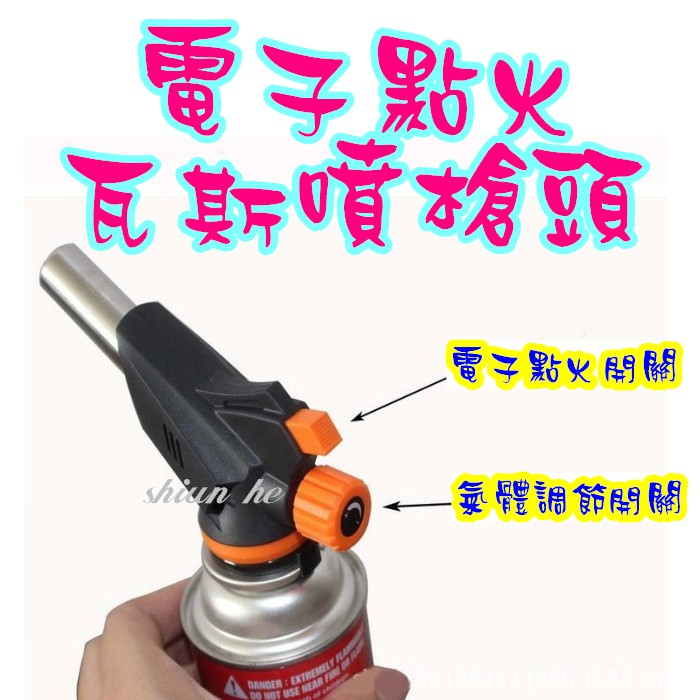gastorch: (28, 240, 376, 700)
